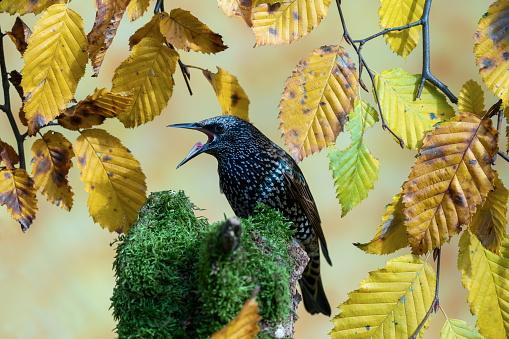bird: (166, 115, 331, 315)
